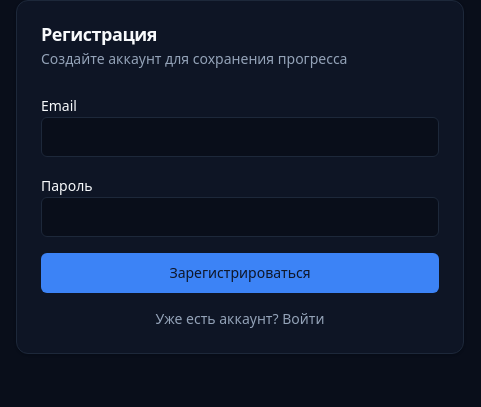
Scenario: RegisterForm › shows fallback error message
This screenshot has width=481, height=407.
Type "test@example.com" into the field labelled "Email" at {"x": 240, "y": 137}, box top-left (41, 117), bottom-right (439, 157)
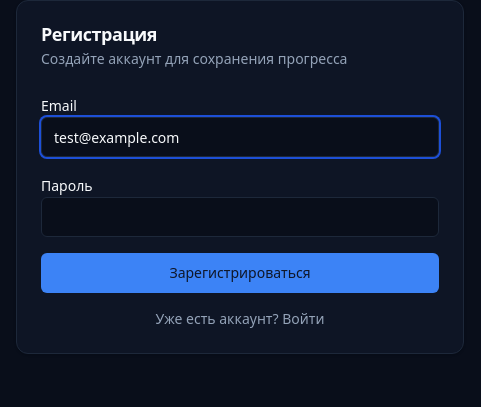
Type "secret123" into the password field labelled "Пароль" at {"x": 240, "y": 217}, box top-left (41, 197), bottom-right (439, 237)
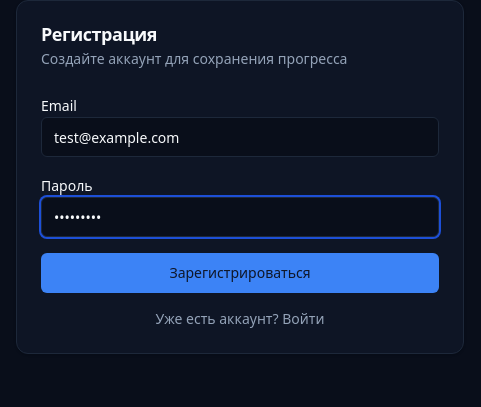
Click the button "Зарегистрироваться" at {"x": 240, "y": 273}, box top-left (41, 253), bottom-right (439, 293)
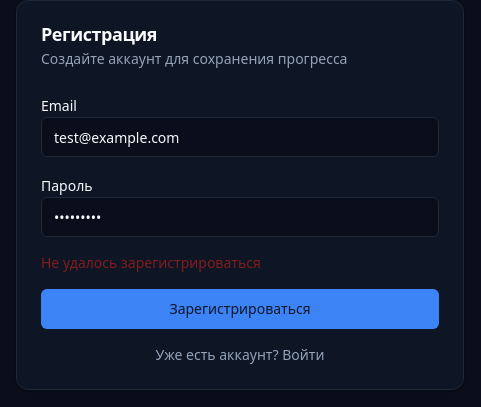
Check: the text "Не удалось зарегистрироваться" is shown, box top-left (41, 253), bottom-right (261, 272)
